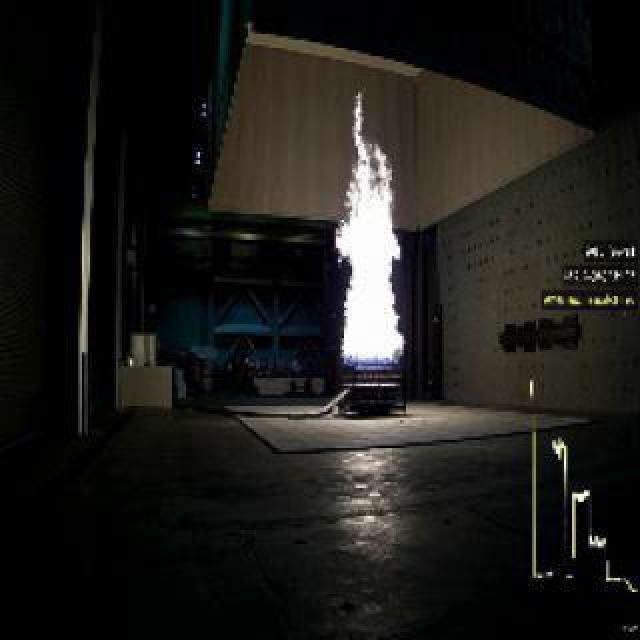Fire: (326, 96, 408, 380)
